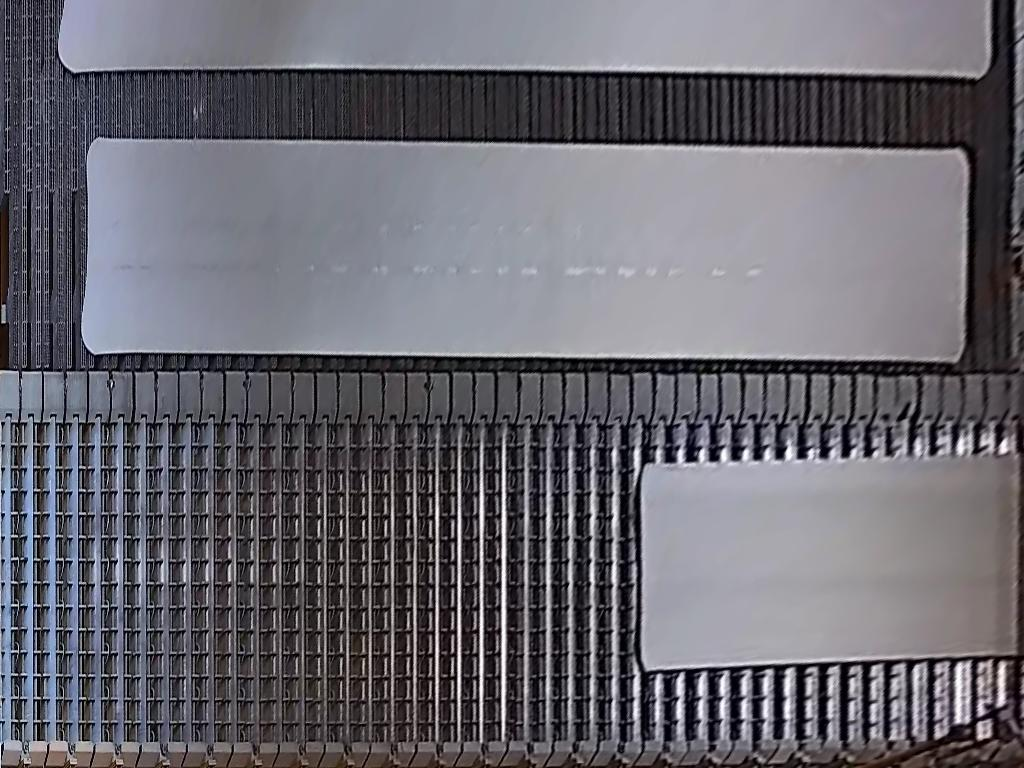steel: (80, 137, 970, 362), (638, 453, 1024, 672), (55, 1, 994, 78)
